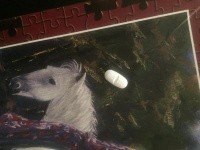Centik Buskopan: (104, 68, 129, 89)
